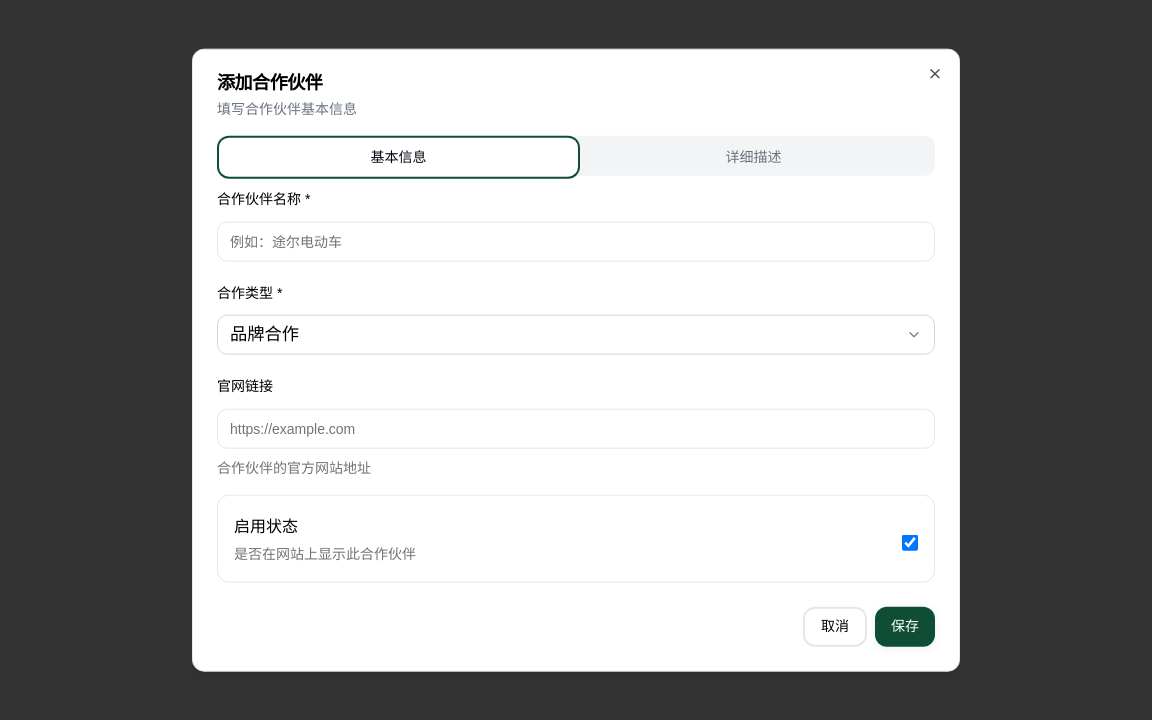
Test case: PartnerEditor - Form Validation Tests (Requirements 10.2) › URL Validation › should show error when website URL is invalid
Type "invalid-url" into the field with placeholder "https://example.com".
click(576, 428); type("invalid-url")  # box x1=217 y1=408 x2=935 y2=448
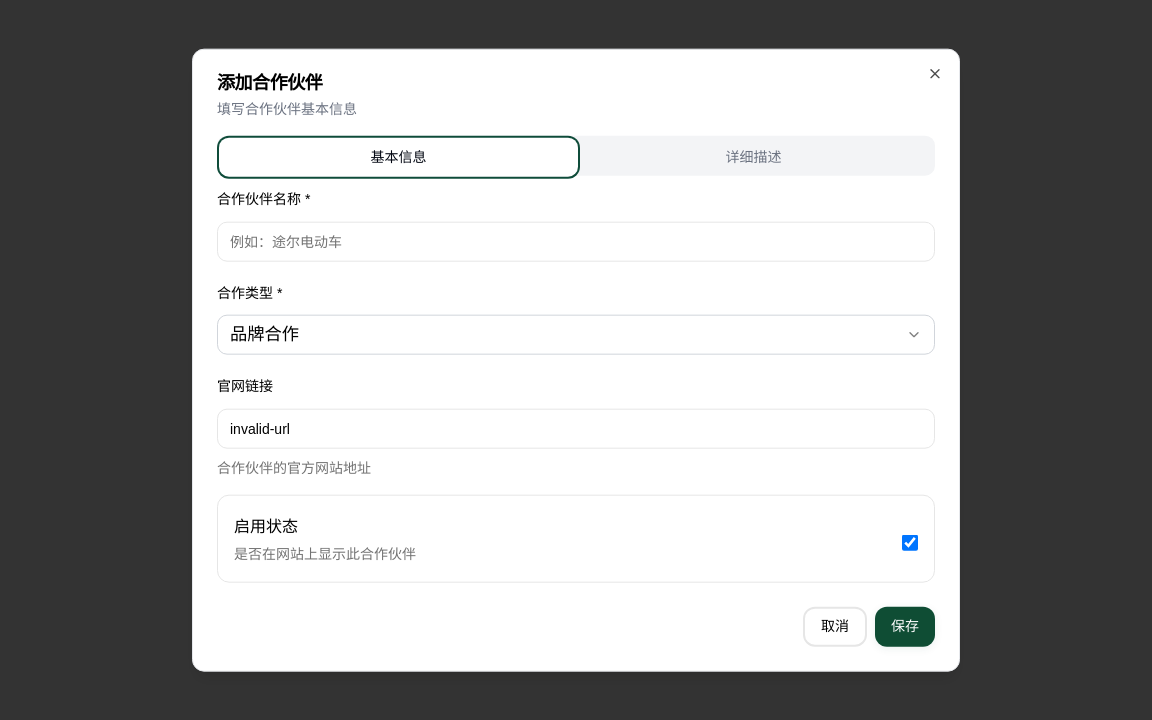
Click the button "保存".
click(905, 626)  # box x1=875 y1=606 x2=935 y2=646
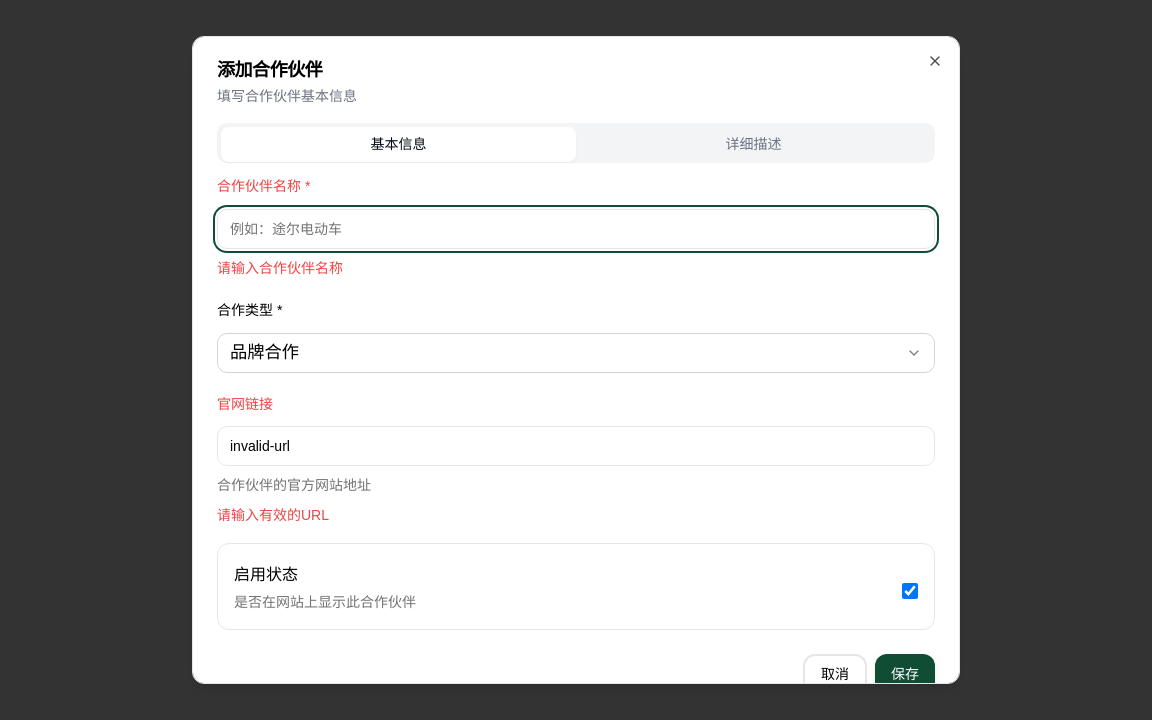
Expected: the text "请输入有效的URL" is shown, x1=217 y1=507 x2=329 y2=523
